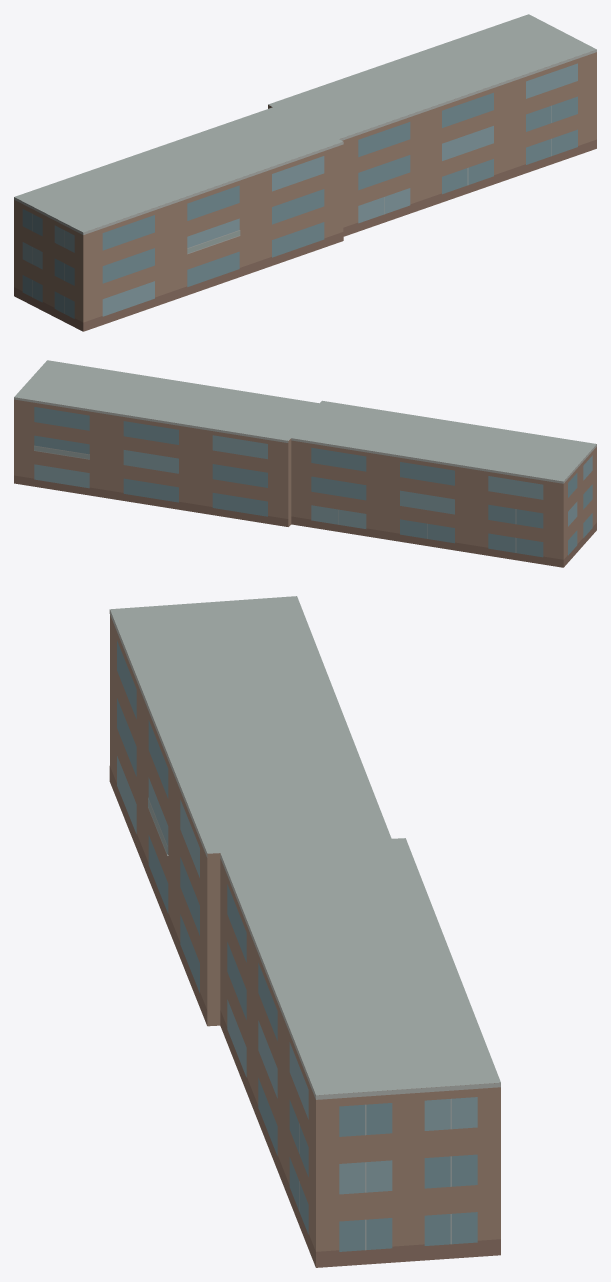
File: survey-upis-32720360.glb
3 views of the same model, one above another, from view 1: azimuth 30°, elevation 25°; view 2: azimuth 150°, elevation 25°; view 3: azimuth 270°, elevation 25° (orthographic). The views are drawn at different scales.
Parts seen in each view (by area): view 1: survey-upis-32720360.tmp; view 2: survey-upis-32720360.tmp; view 3: survey-upis-32720360.tmp.
Boxes of the visible parts, <box> form: survey-upis-32720360.tmp: <box>14,14,596,331</box>; survey-upis-32720360.tmp: <box>14,360,596,567</box>; survey-upis-32720360.tmp: <box>109,596,500,1267</box>.
Size of the model in its own units: 56.79 by 9.15 by 18.81.
